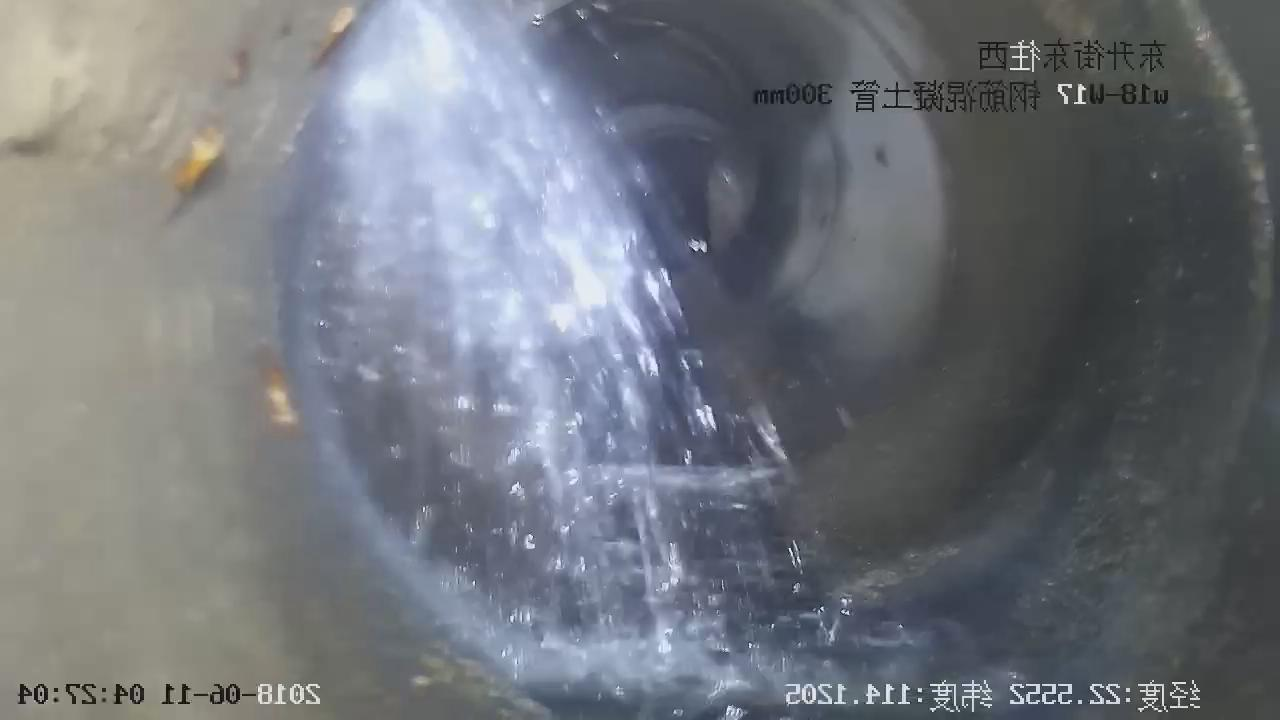SL: (205, 4, 873, 709)
